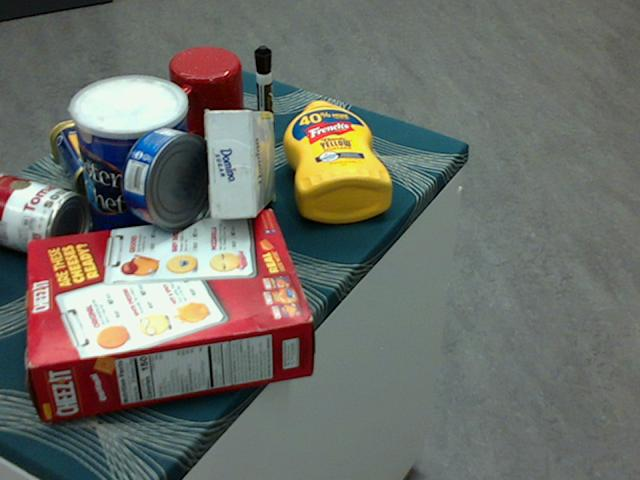cracker_box: (29, 209, 313, 421)
large_marker: (254, 44, 273, 149)
master_chef_can: (70, 77, 194, 259)
mug: (167, 47, 248, 146)
mustard_bottle: (283, 99, 392, 222)
potted_meat_can: (50, 109, 168, 203)
sugar_box: (208, 110, 272, 220)
tomato_soup_can: (0, 169, 89, 261)
tuna_fish_can: (121, 126, 216, 229)
